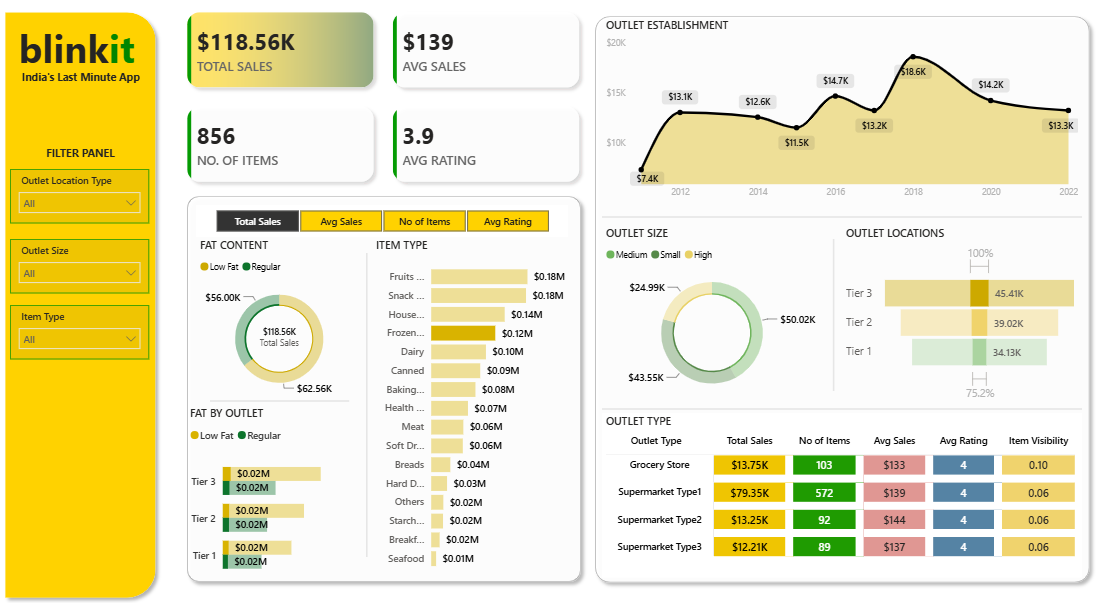

The dashboard page shown, as its layout file describes it:
{"tool":"powerbi","page":{"name":"Page 1","canvas":[1400,800],"ordinal":0},"visuals":[{"type":"shape","box":[10,20,206,750],"z":0},{"type":"textbox","box":[18,36,182,76],"z":1000},{"type":"textbox","box":[28,96,172,30],"z":2000},{"type":"cardVisual","fields":{"Data":["BlinkIT Grocery Data.Total Sales","BlinkIT Grocery Data.Avg Sales","BlinkIT Grocery Data.No of Items","BlinkIT Grocery Data.Avg Rating"]},"box":[218,0,548,270],"z":3000},{"type":"shape","box":[237.5,250,510,500],"z":4000},{"type":"donutChart","title":"FAT CONTENT","fields":{"Y":["BlinkIT Grocery Data.Total Sales"],"Category":["BlinkIT Grocery Data.Item Fat Content"]},"box":[258,310,208,210],"z":5000},{"type":"slicer","fields":{"Values":["Metrics.Metrics"]},"box":[258.3,270,465,40],"z":6000},{"type":"cardVisual","fields":{"Data":["BlinkIT Grocery Data.Total Sales"]},"box":[332,416,124,54],"z":7000},{"type":"clusteredBarChart","title":"FAT BY OUTLET","fields":{"Y":["BlinkIT Grocery Data.Total Sales"],"Category":["BlinkIT Grocery Data.Outlet Location Type"],"Series":["BlinkIT Grocery Data.Item Fat Content"]},"box":[246,520,220,230],"z":8000},{"type":"shape","box":[274,510,174,10],"z":9000},{"type":"shape","box":[466,330,12,380],"z":10000},{"type":"barChart","title":"ITEM TYPE","fields":{"Y":["BlinkIT Grocery Data.Total Sales"],"Category":["BlinkIT Grocery Data.Item Type"]},"box":[478,310,246,426],"z":11000},{"type":"shape","box":[748,24,636,726],"z":12000},{"type":"lineChart","title":"OUTLET ESTABLISHMENT","fields":{"Y":["BlinkIT Grocery Data.Total Sales"],"Category":["BlinkIT Grocery Data.Outlet Establishment Year"]},"box":[766,36,600,236],"z":13000},{"type":"shape","box":[766,280,600,10],"z":14000},{"type":"donutChart","title":"OUTLET SIZE","fields":{"Y":["BlinkIT Grocery Data.Total Sales"],"Category":["BlinkIT Grocery Data.Outlet Size"]},"box":[766,294,275,225],"z":15000},{"type":"shape","box":[1042,312,24,190],"z":16000},{"type":"funnel","title":"OUTLET LOCATIONS","fields":{"Y":["Sum(BlinkIT Grocery Data.Sales)"],"Category":["BlinkIT Grocery Data.Outlet Location Type"]},"box":[1066,294,300,226],"z":17000},{"type":"shape","box":[766,520,600,10],"z":18000},{"type":"pivotTable","title":"OUTLET TYPE","fields":{"Rows":["BlinkIT Grocery Data.Outlet Type"],"Values":["BlinkIT Grocery Data.Total Sales","BlinkIT Grocery Data.No of Items","BlinkIT Grocery Data.Avg Sales","BlinkIT Grocery Data.Avg Rating","Avg(BlinkIT Grocery Data.Item Visibility)"]},"box":[766,530,600,206],"z":19000},{"type":"slicer","fields":{"Values":["BlinkIT Grocery Data.Outlet Location Type"]},"box":[26,226,174,68],"z":20000},{"type":"slicer","fields":{"Values":["BlinkIT Grocery Data.Outlet Size"]},"box":[26,312,174,68],"z":21000},{"type":"slicer","fields":{"Values":["BlinkIT Grocery Data.Item Type"]},"box":[26,396,174,68],"z":22000},{"type":"textbox","box":[56,190,116,36],"z":22001}]}

Visuals, with their boxes on the page's 1400x800 design canvas (x1, y1, x2, y2). These are canvas units, not pixel positions in the 1107x603 screenshot, which may show the page scaled, cropped or inside an application window:
shape: Rect(10, 20, 216, 770)
textbox: Rect(18, 36, 200, 112)
textbox: Rect(28, 96, 200, 126)
cardVisual - BlinkIT Grocery Data.Total Sales x BlinkIT Grocery Data.Avg Sales: Rect(218, 0, 766, 270)
shape: Rect(238, 250, 748, 750)
"FAT CONTENT" donutChart: Rect(258, 310, 466, 520)
slicer - Metrics.Metrics: Rect(258, 270, 723, 310)
cardVisual - BlinkIT Grocery Data.Total Sales: Rect(332, 416, 456, 470)
"FAT BY OUTLET" clusteredBarChart: Rect(246, 520, 466, 750)
shape: Rect(274, 510, 448, 520)
shape: Rect(466, 330, 478, 710)
"ITEM TYPE" barChart: Rect(478, 310, 724, 736)
shape: Rect(748, 24, 1384, 750)
"OUTLET ESTABLISHMENT" lineChart: Rect(766, 36, 1366, 272)
shape: Rect(766, 280, 1366, 290)
"OUTLET SIZE" donutChart: Rect(766, 294, 1041, 519)
shape: Rect(1042, 312, 1066, 502)
"OUTLET LOCATIONS" funnel: Rect(1066, 294, 1366, 520)
shape: Rect(766, 520, 1366, 530)
"OUTLET TYPE" pivotTable: Rect(766, 530, 1366, 736)
slicer - BlinkIT Grocery Data.Outlet Location Type: Rect(26, 226, 200, 294)
slicer - BlinkIT Grocery Data.Outlet Size: Rect(26, 312, 200, 380)
slicer - BlinkIT Grocery Data.Item Type: Rect(26, 396, 200, 464)
textbox: Rect(56, 190, 172, 226)
